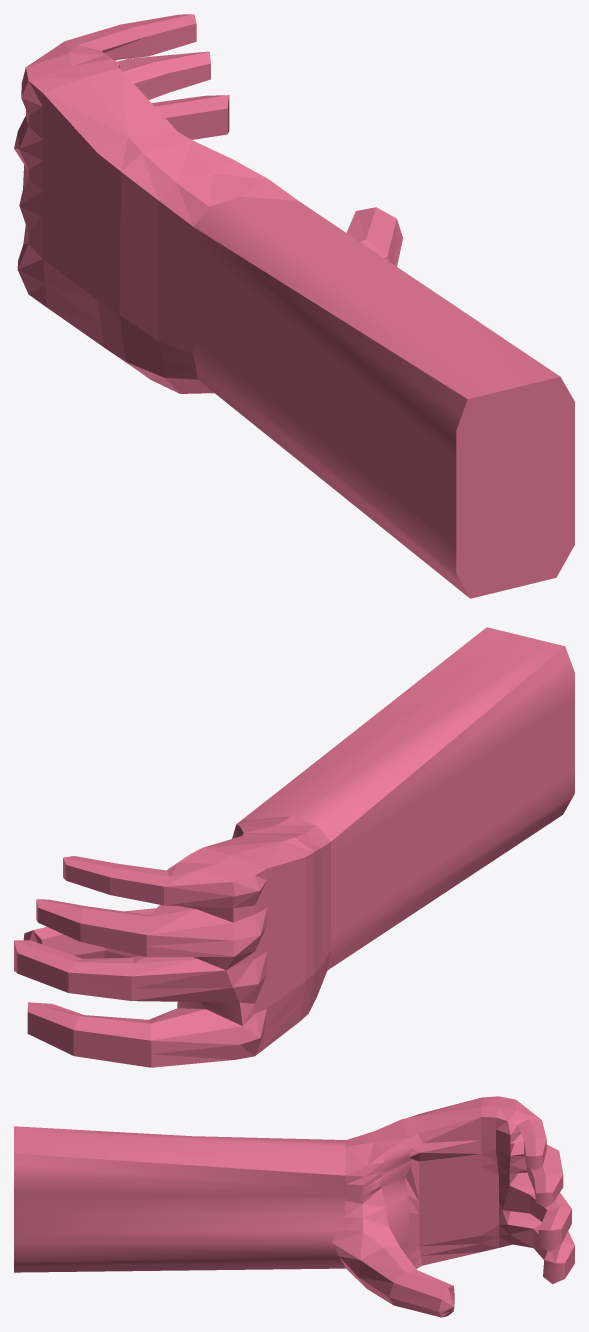
File: RightHand.FBX
3 views of the same model, one above another, from view 1: azimuth 30°, elevation 25°; view 2: azimuth 150°, elevation 25°; view 3: azimuth 270°, elevation 25° (orthographic). The views are drawn at different scales.
Visible parts, largest first — view 1: Box001; view 2: Box001; view 3: Box001.
Part boxes in pixels (box(x1,y1,x2,y2)): Box001: box(14, 14, 574, 598); Box001: box(14, 627, 574, 1067); Box001: box(14, 1096, 574, 1317).
Bounding box in the file's own units: 24.69 × 18.17 × 59.81.
